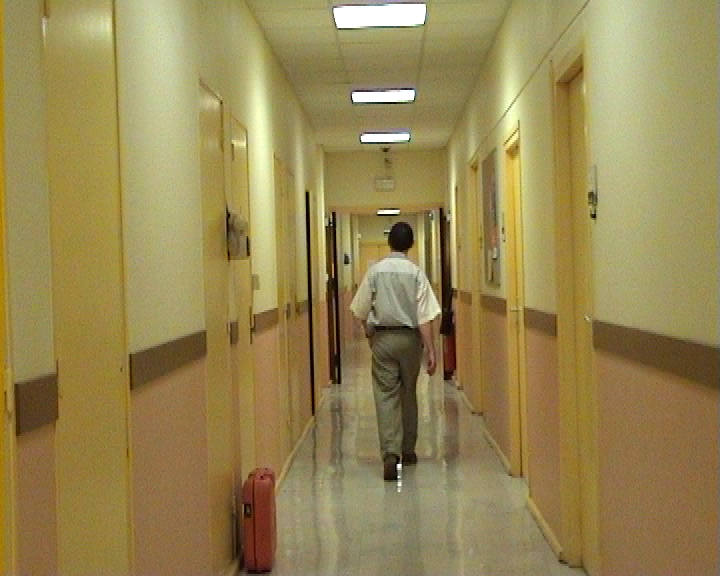leave bag unattended: (213, 453, 298, 576)
